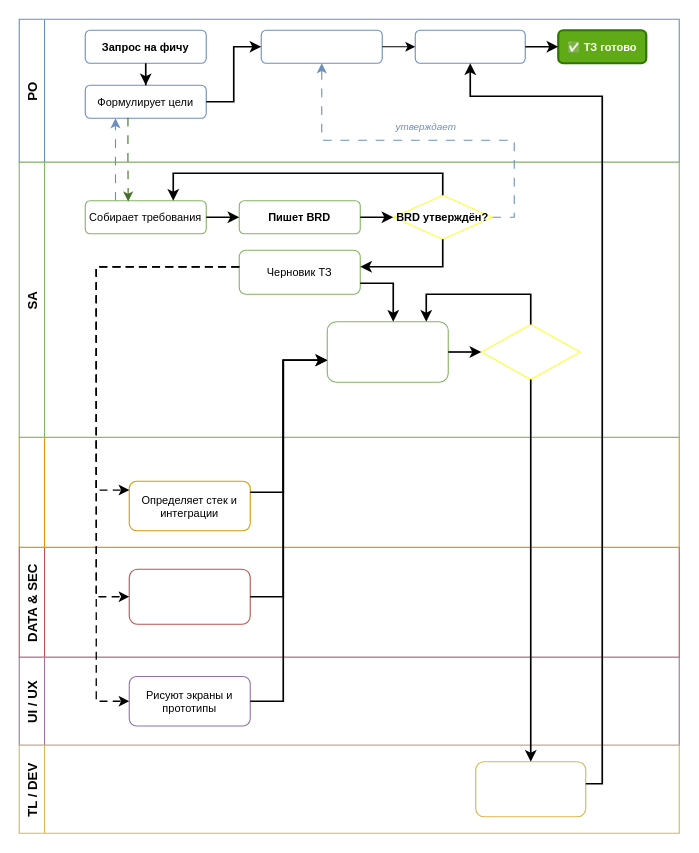
This 699x853 diagram has some shape labels left out. Each missing label, with the box of its shape:
ARCH: (18, 436, 679, 547)
Сводит финальный ТЗ: (326, 321, 448, 382)
Согласует БД и безопасность: (128, 568, 250, 624)
Ставят оценки трудоёмкости: (475, 761, 586, 817)
ТЗ прошёл ревью?: (480, 323, 580, 380)
Утверждает BRD: (260, 29, 382, 63)
Утверждает ТЗ: (414, 29, 525, 63)
